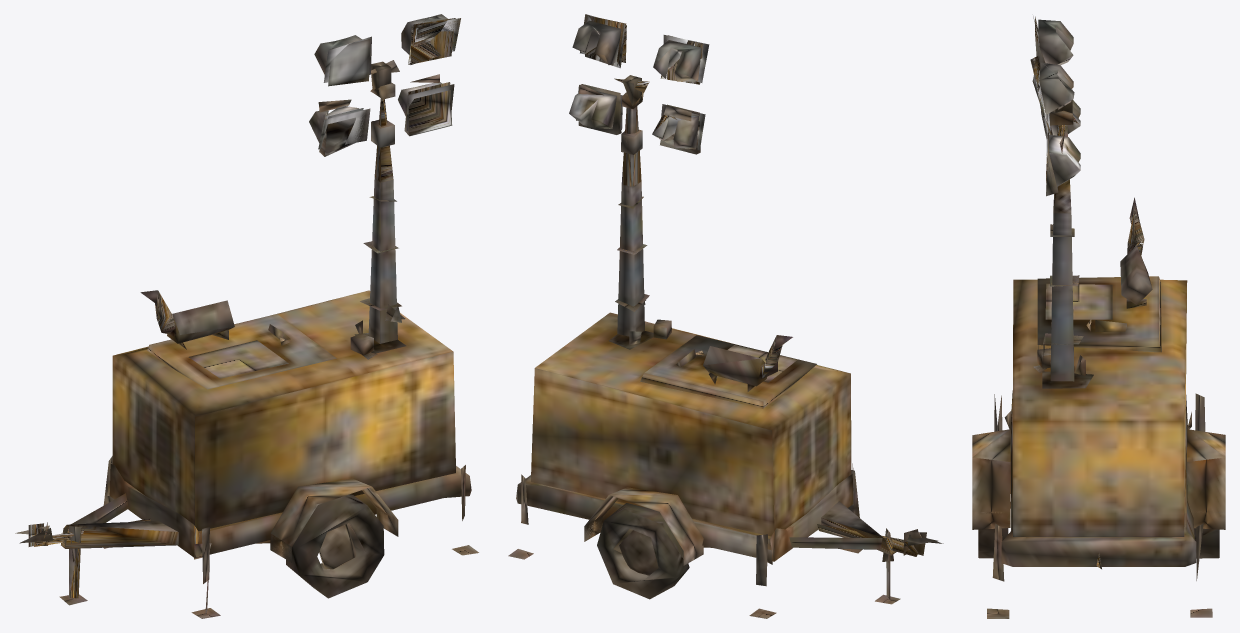
File: generator_light_tower.glb
3 views of the same model, side by side, from view 1: azimuth 30°, elevation 25°; view 2: azimuth 150°, elevation 25°; view 3: azimuth 270°, elevation 25° (orthographic). The views are drawn at different scales.
Visible parts, largest first — view 1: geometry_0; view 2: geometry_0; view 3: geometry_0.
Part boxes in pixels (x1,y1,x2,y2): geometry_0: (15,14,478,618); geometry_0: (508,14,943,618); geometry_0: (972,16,1225,618).
Bounding box in the file's own units: 3.51 × 4.18 × 1.76.
Materials: 1 (1 with a texture image).
